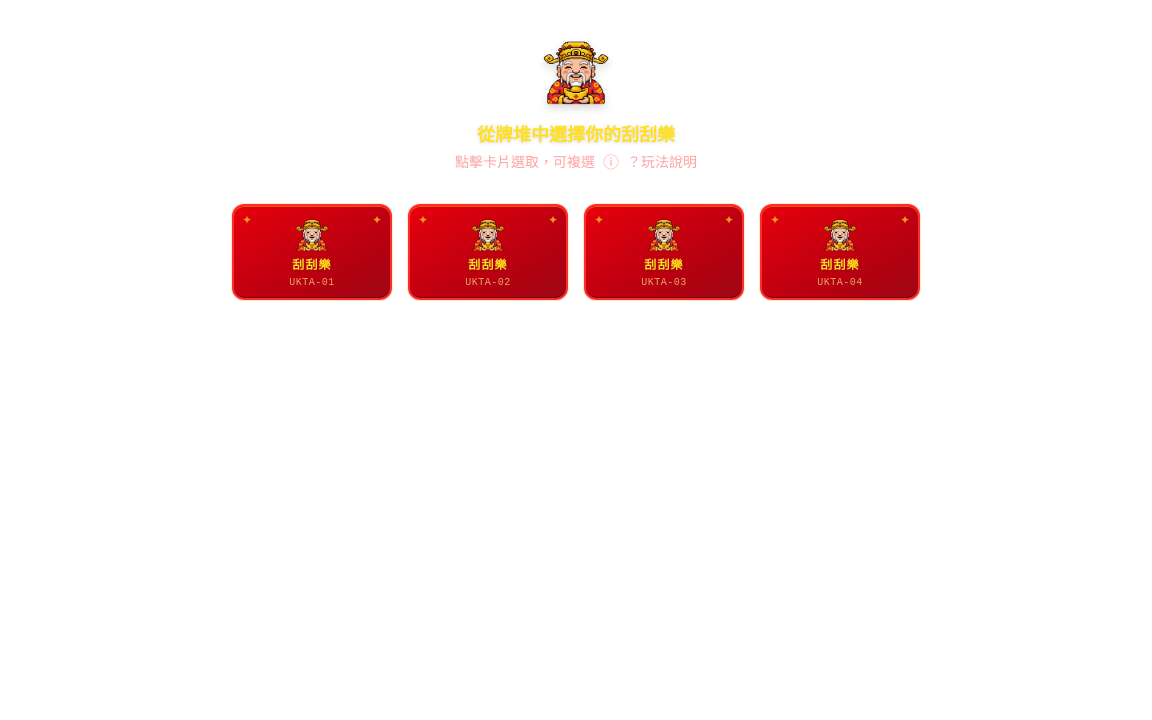
Test: CardPile › 點擊「玩法說明」按鈕後應開啟 RulesModal
This screenshot has width=1152, height=720.
Click the button "？玩法說明". click: click(662, 162)
box: [627, 152, 697, 172]
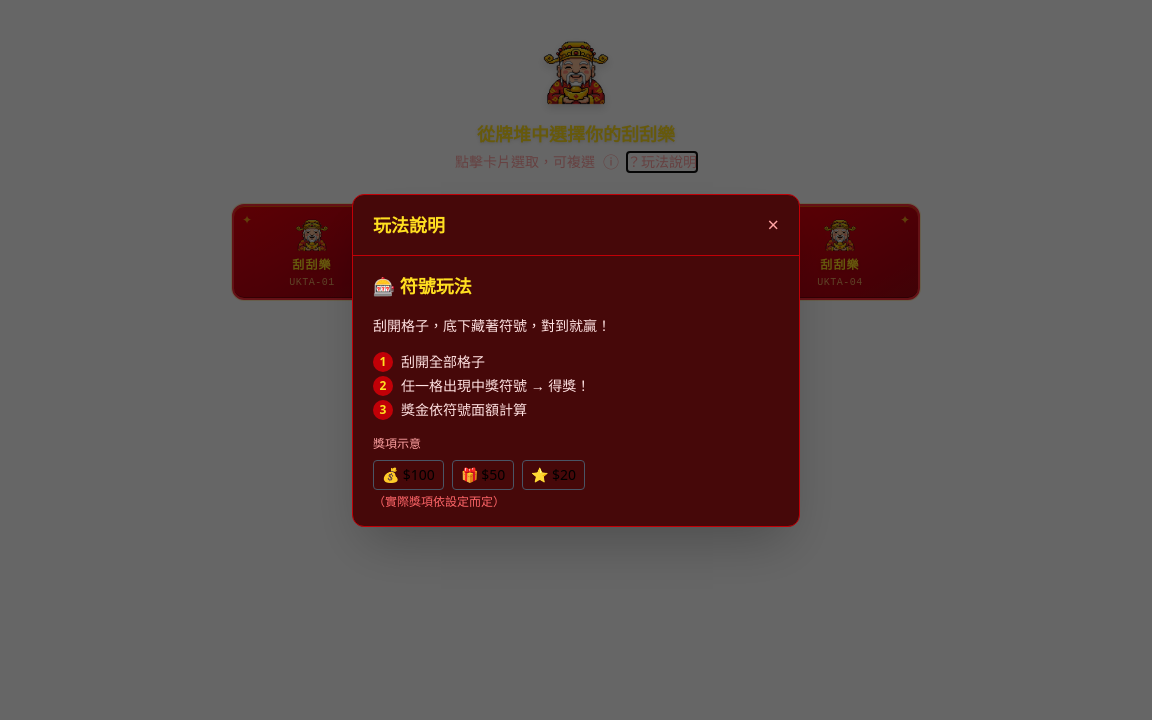
Check: the dialog "玩法說明" is shown
